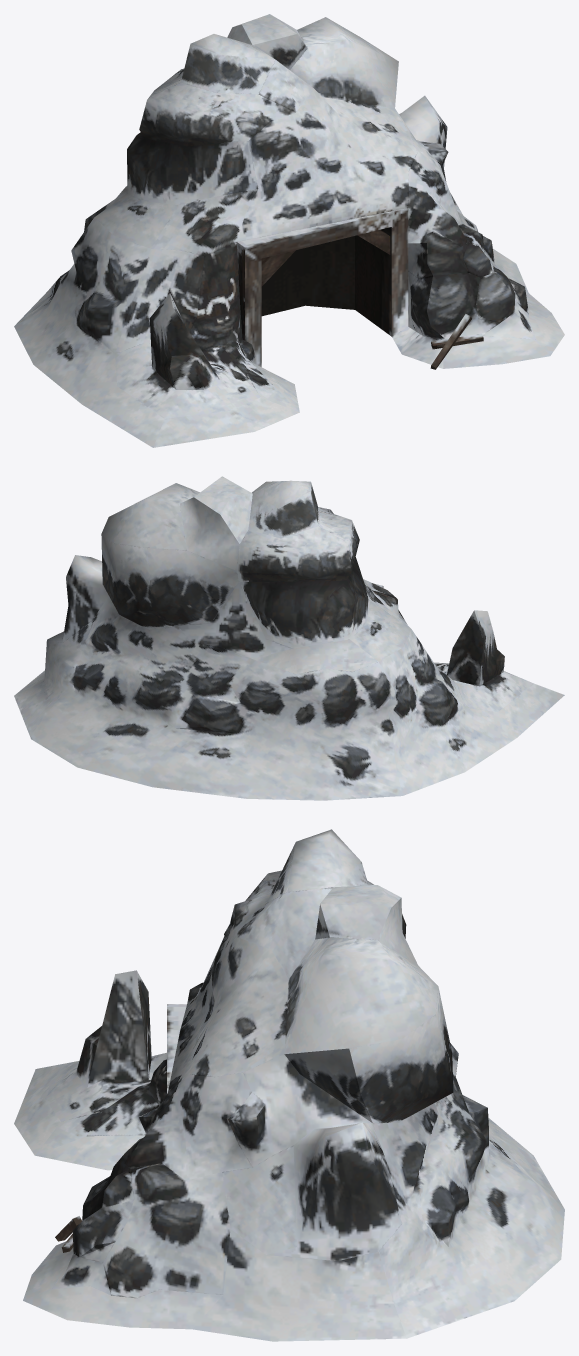
Rendered from 2005_Item_shitou_11.FBX.
The picture shows the model from 3 angles, top to bottom: view 1: azimuth 30°, elevation 25°; view 2: azimuth 150°, elevation 25°; view 3: azimuth 270°, elevation 25°; orthographic projection. The views are drawn at different scales.
Parts seen in each view (by area): view 1: 2005_Item_shitou_11; view 2: 2005_Item_shitou_11; view 3: 2005_Item_shitou_11.
Part boxes in pixels (x1,y1,x2,y2): 2005_Item_shitou_11: [14, 14, 564, 447]; 2005_Item_shitou_11: [14, 476, 564, 800]; 2005_Item_shitou_11: [14, 829, 564, 1341].
Size of the model in its own units: 744 by 426 by 624.
